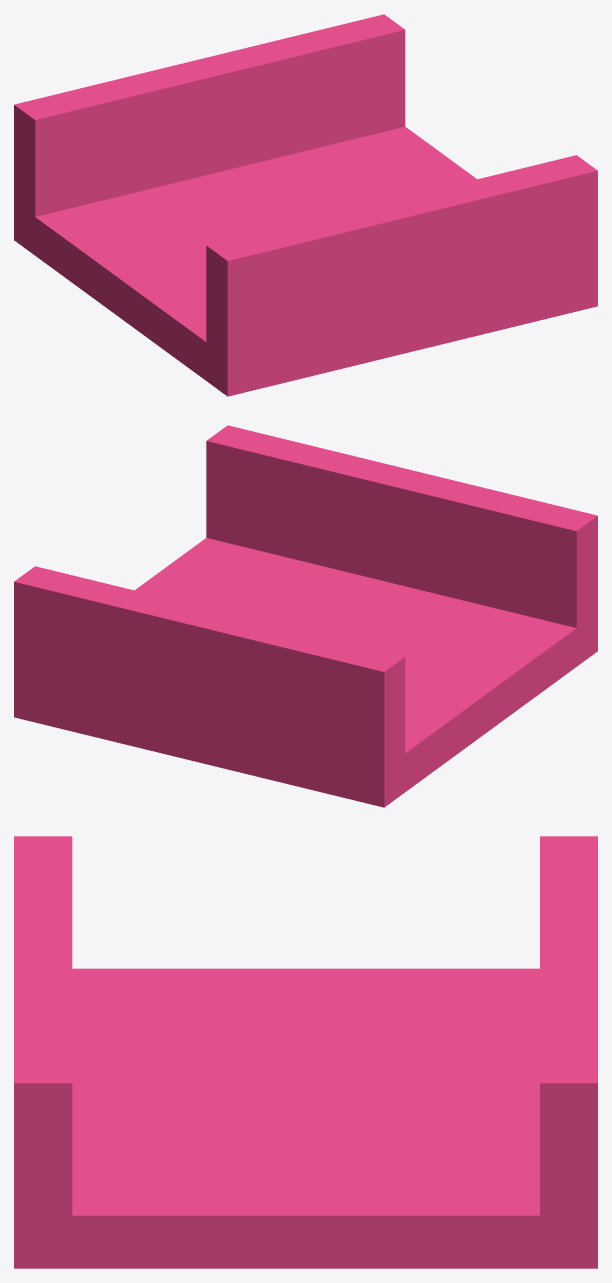
The model's file is PinkRoof_2Edges_Small.glb.
3 views of the same model, one above another, from view 1: azimuth 30°, elevation 25°; view 2: azimuth 150°, elevation 25°; view 3: azimuth 270°, elevation 25° (orthographic). The views are drawn at different scales.
Visible parts, largest first — view 1: roof_flat_2Edges_small_pink; view 2: roof_flat_2Edges_small_pink; view 3: roof_flat_2Edges_small_pink.
Part boxes in pixels (left/top/right/bottom): roof_flat_2Edges_small_pink: left=14, top=14, right=597, bottom=396; roof_flat_2Edges_small_pink: left=14, top=425, right=597, bottom=807; roof_flat_2Edges_small_pink: left=14, top=836, right=597, bottom=1268.
Size of what is drawn, in the model's own units: 2 by 0.7 by 2.
1 material, 1 textured.
